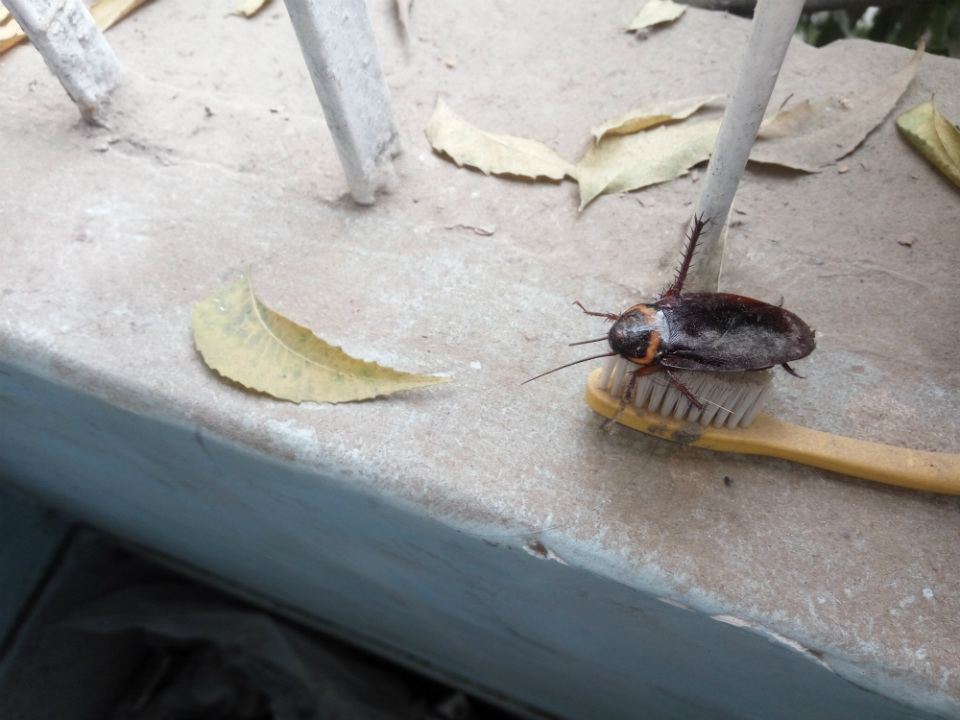cockroach: (515, 201, 851, 452)
